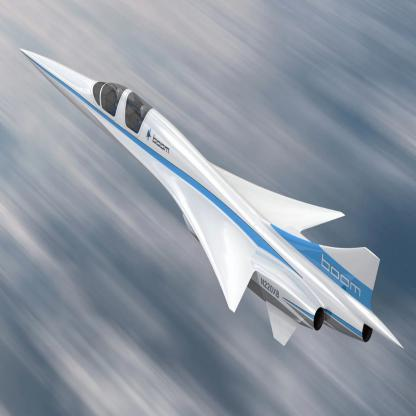CIV_Plane: (12, 40, 406, 364)
